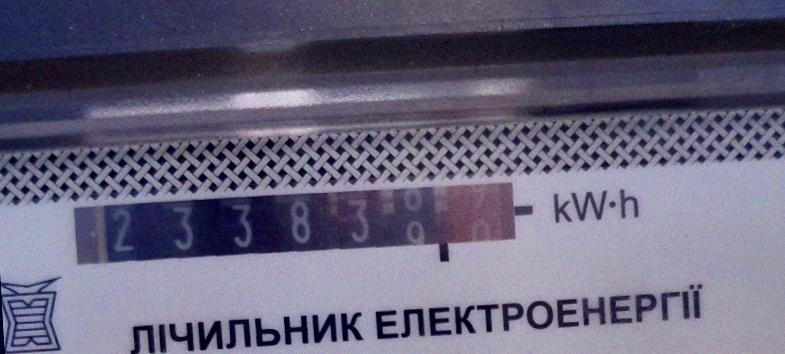0: (469, 216, 492, 243)
2: (109, 206, 136, 254)
3: (225, 199, 257, 249), (167, 201, 198, 251), (345, 195, 371, 242)
8: (285, 197, 314, 245), (400, 185, 425, 213)
9: (466, 180, 490, 211), (403, 216, 426, 247)
screen: (61, 169, 538, 286)
